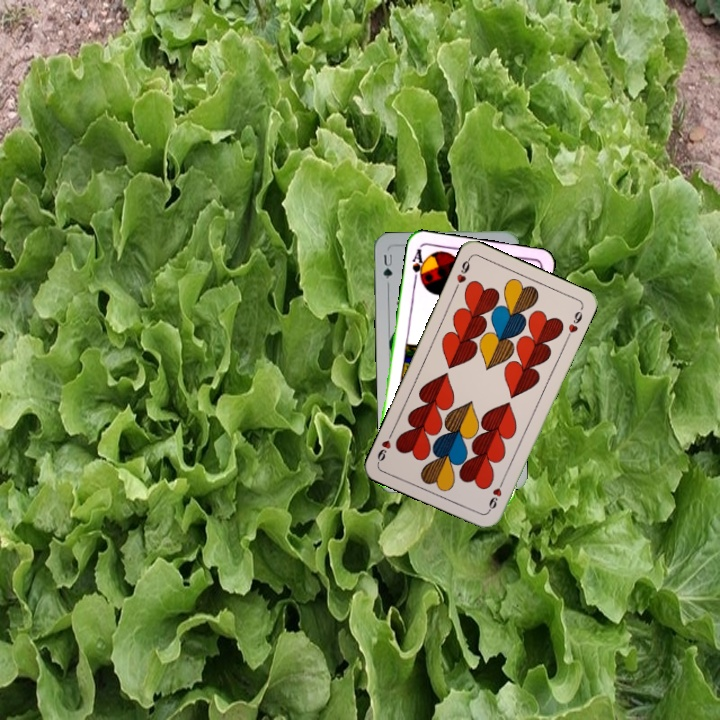GU: (379, 250, 395, 281)
H9: (484, 475, 507, 514), (451, 254, 473, 292)
SA: (408, 245, 428, 286)
